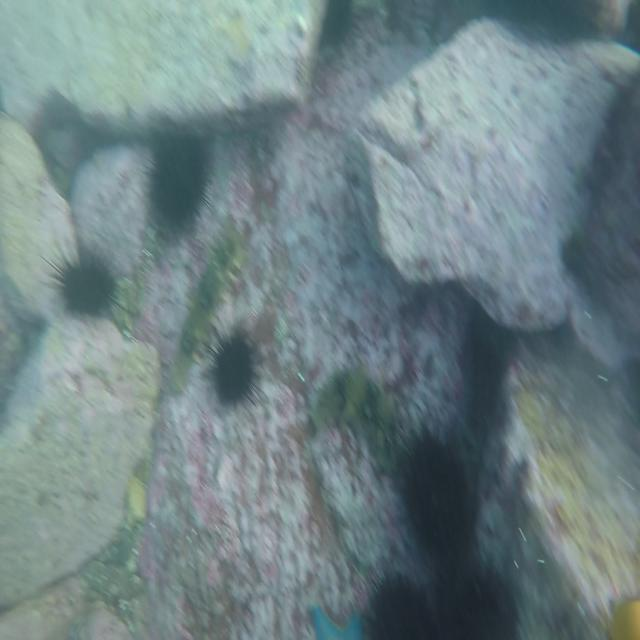echinus: (393, 432, 475, 548), (432, 564, 516, 640), (199, 314, 258, 417), (44, 240, 115, 324), (148, 140, 209, 235), (354, 572, 432, 640)
